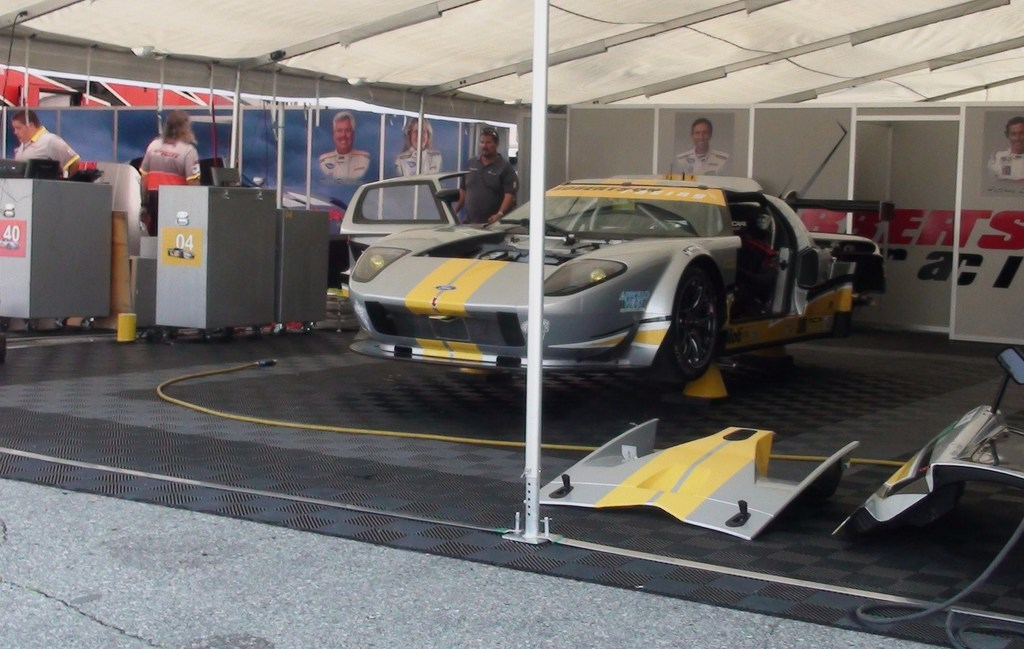Car: (318, 163, 868, 396), (129, 156, 345, 252)
